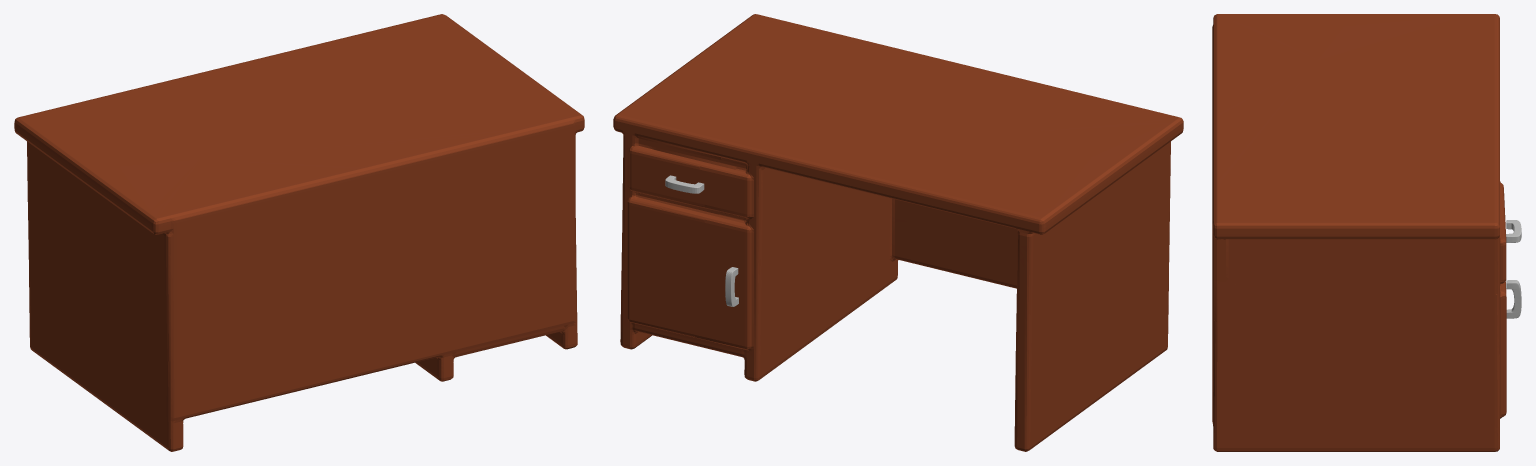
Rendered from schreibtisch_2.obj.
3 renders of one model, left to right at view 1: azimuth 30°, elevation 25°; view 2: azimuth 150°, elevation 25°; view 3: azimuth 270°, elevation 25°, orthographic.
Parts seen in each view (by area): view 1: 282367_23_05_24_18_12_22_3; view 2: 282367_23_05_24_18_12_22_3; view 3: 282367_23_05_24_18_12_22_3, 282367_23_05_24_18_12_22_2, 282367_23_05_24_18_12_22_1.
Boxes of the visible parts, x1,y1,x2,y2 form: 282367_23_05_24_18_12_22_3: (14,14,584,451); 282367_23_05_24_18_12_22_3: (613,14,1183,451); 282367_23_05_24_18_12_22_3: (1212,14,1506,451); 282367_23_05_24_18_12_22_2: (1506,280,1521,318); 282367_23_05_24_18_12_22_1: (1506,220,1521,242).
Size of the model in its own units: 8.55 by 4.49 by 5.26.
Materials: 3 (3 with a texture image).
